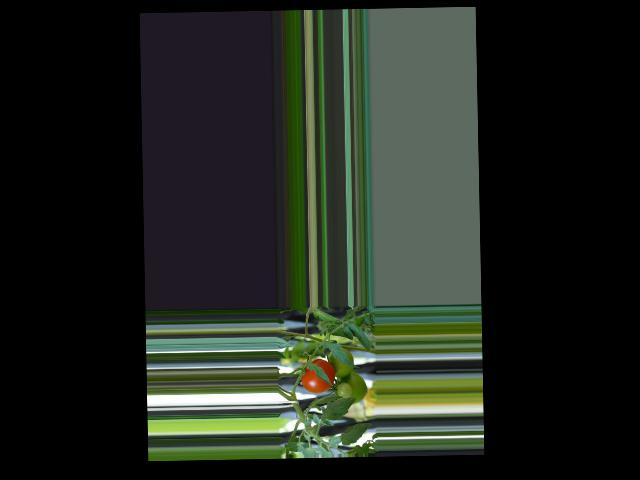tomato: (301, 359, 335, 394)
